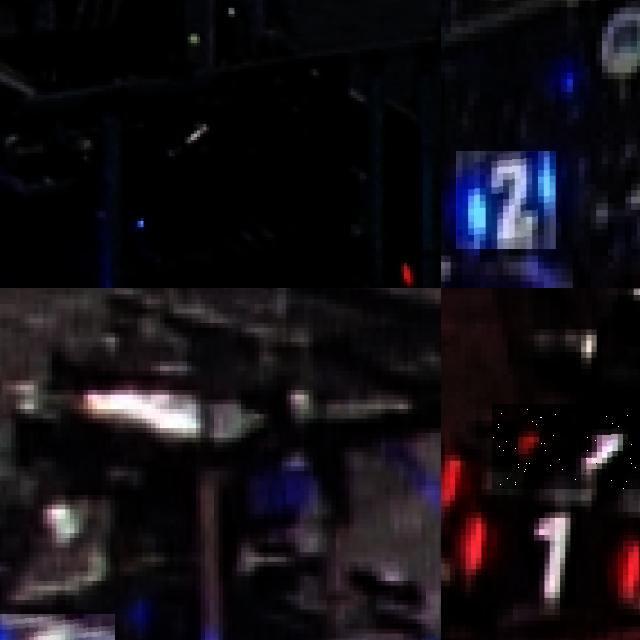B2: (456, 151, 556, 249)
R1: (441, 483, 640, 615), (491, 403, 640, 489)
